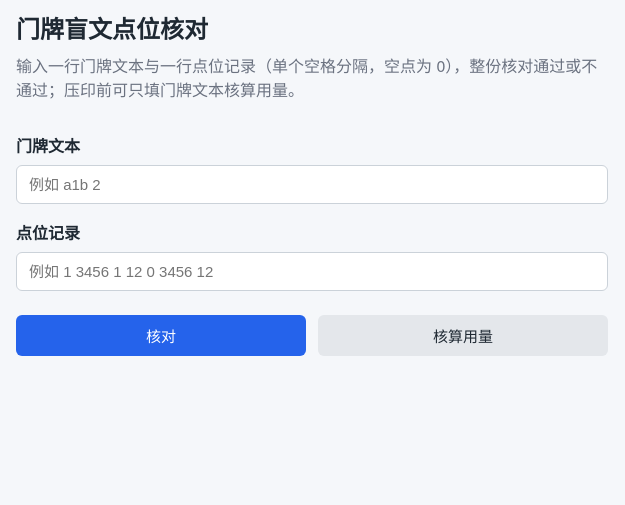
Test case: App 核算用量 › 非法文本后旧用量被清除，错误显示在用量区域且不发起请求
The width and height of the screenshot is (625, 505).
In the field with test id "text-input": point(312, 184) [16, 165, 608, 204], type "abc"
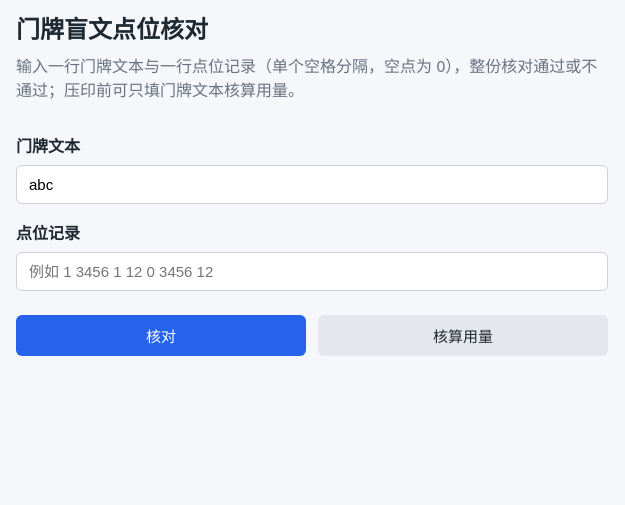
Click the button with test id "usage-submit": point(463, 336) [318, 315, 608, 356]
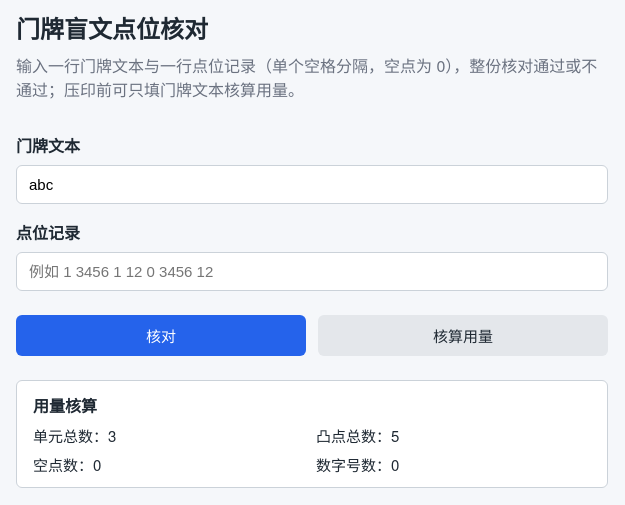
Expected: the element with test id "usage" is shown, [16, 380, 608, 488]
Replace the text in the field with test id "text-input" with "Abc": point(312, 184) [16, 165, 608, 204]
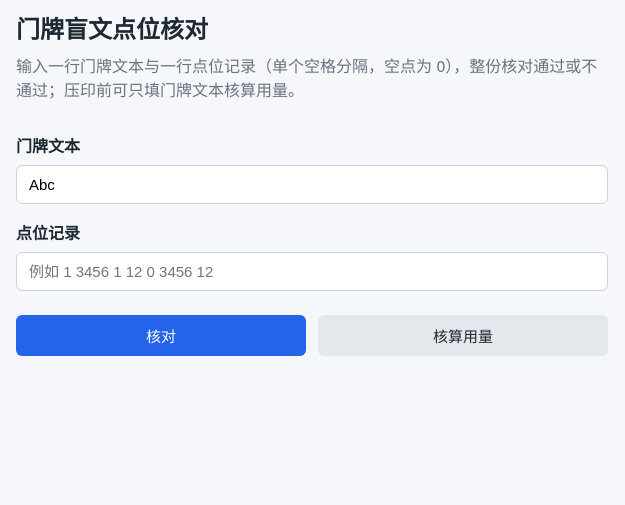
Click the button with test id "usage-submit": point(463, 336) [318, 315, 608, 356]
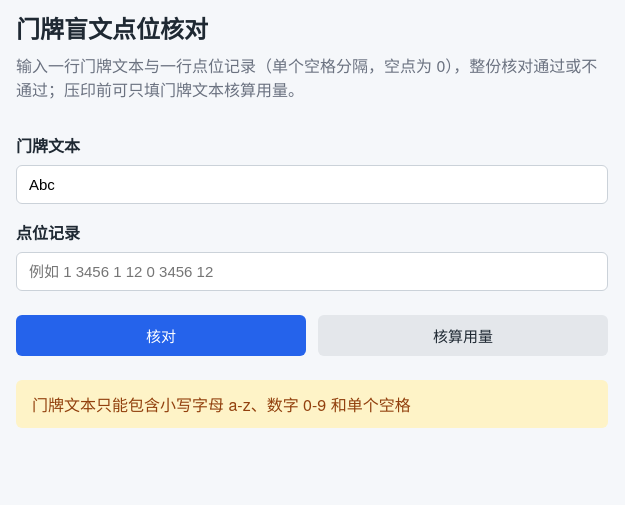
Expected: the message with test id "usage-error" shows "小写", [16, 380, 608, 428]
